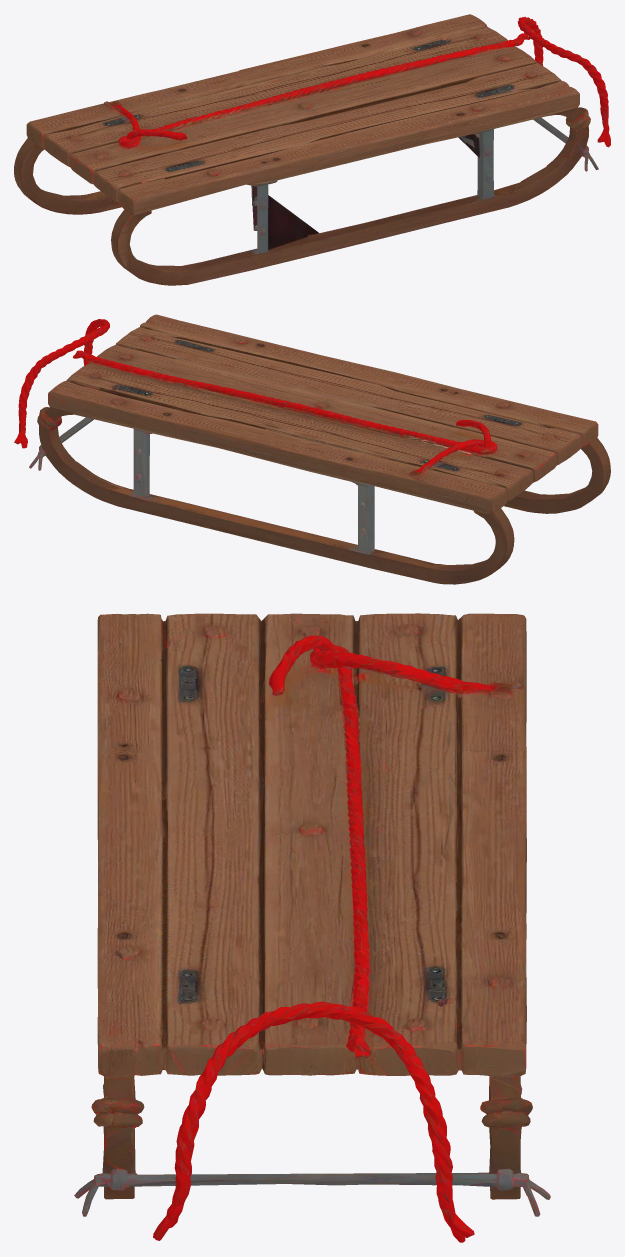
Rendered from wooden_sled.glb.
The picture shows the model from 3 angles, top to bottom: view 1: azimuth 30°, elevation 25°; view 2: azimuth 150°, elevation 25°; view 3: azimuth 270°, elevation 25°; orthographic projection. The views are drawn at different scales.
Bounding box in the file's own units: 1.9 × 0.4393 × 0.7725.
Materials: 1 (1 with a texture image).
